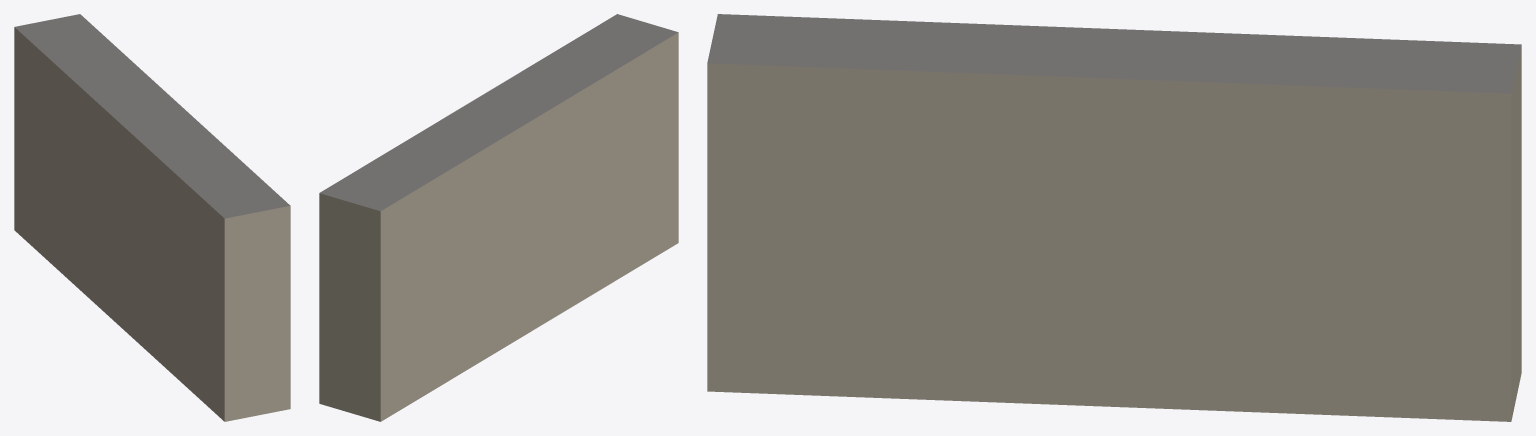
Rendered from buildings.glb.
3 views of the same model, side by side, from view 1: azimuth 30°, elevation 25°; view 2: azimuth 150°, elevation 25°; view 3: azimuth 270°, elevation 25° (orthographic). The views are drawn at different scales.
Visible parts, largest first — view 1: T_W1_S5_buildings; view 2: T_W1_S5_buildings; view 3: T_W1_S5_buildings.
Boxes of the visible parts, x1=… form: T_W1_S5_buildings: x1=14, y1=14, x2=290, y2=421; T_W1_S5_buildings: x1=319, y1=14, x2=678, y2=421; T_W1_S5_buildings: x1=707, y1=14, x2=1521, y2=421.
Bounding box in the file's own units: 9.9 × 19 × 42.73.
